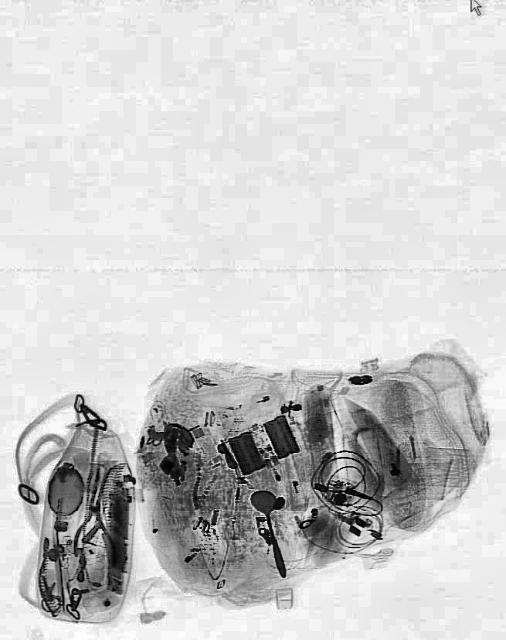Pliers: (70, 464, 124, 566)
